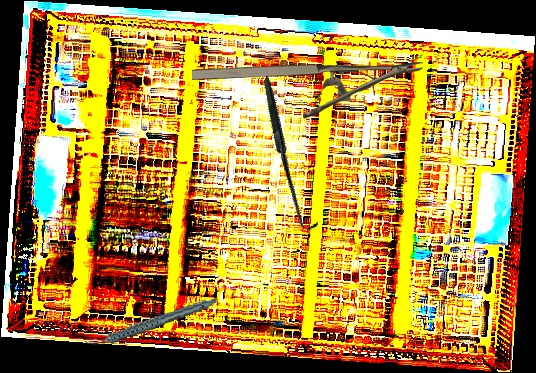Handpiece: (80, 297, 221, 348)
Hook Surgical: (213, 76, 367, 233)
Needle Holder: (192, 62, 423, 118)
